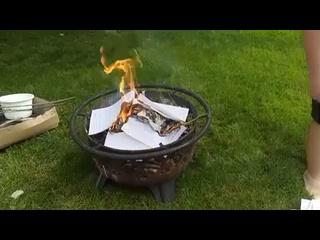Fire: (98, 38, 145, 130)
